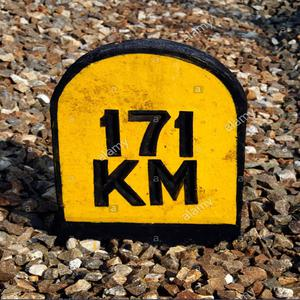kmstone: (44, 38, 249, 240)
